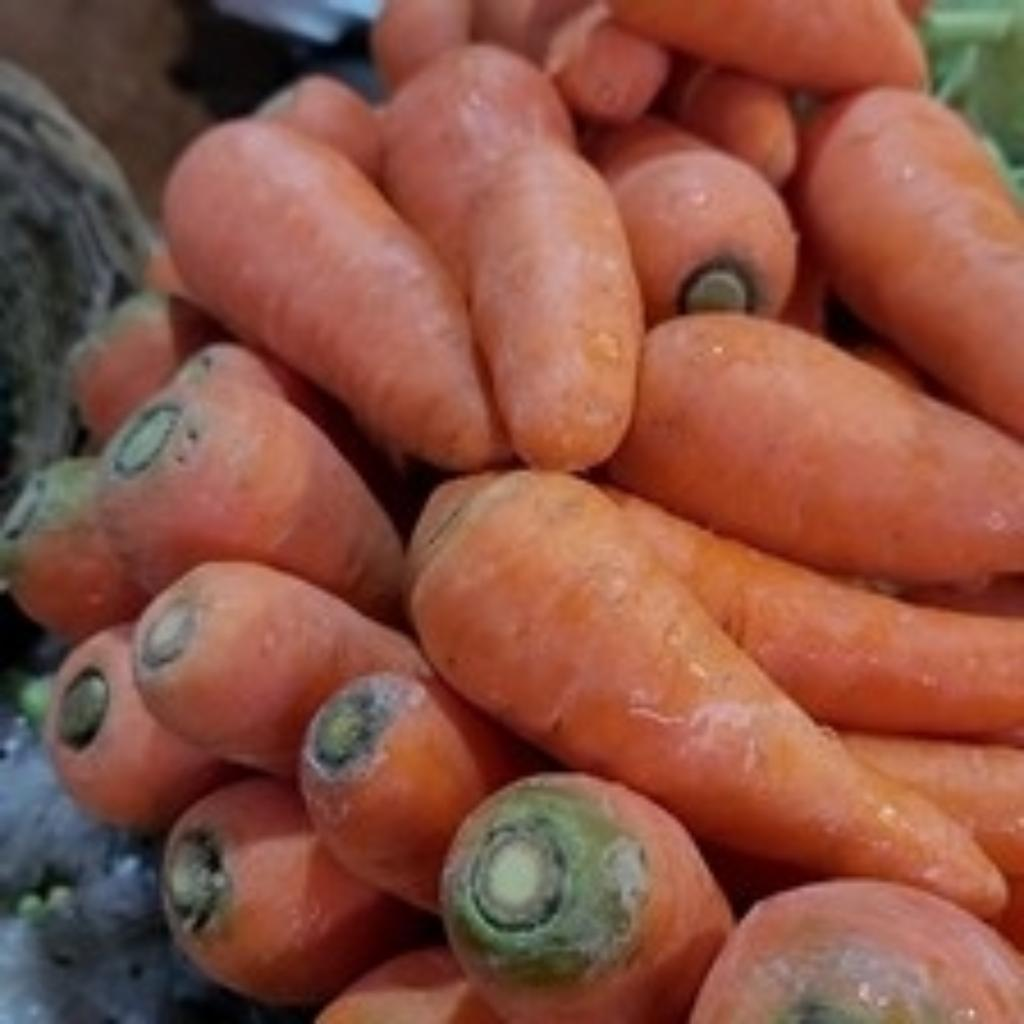carrot: (12, 0, 1024, 1024)
